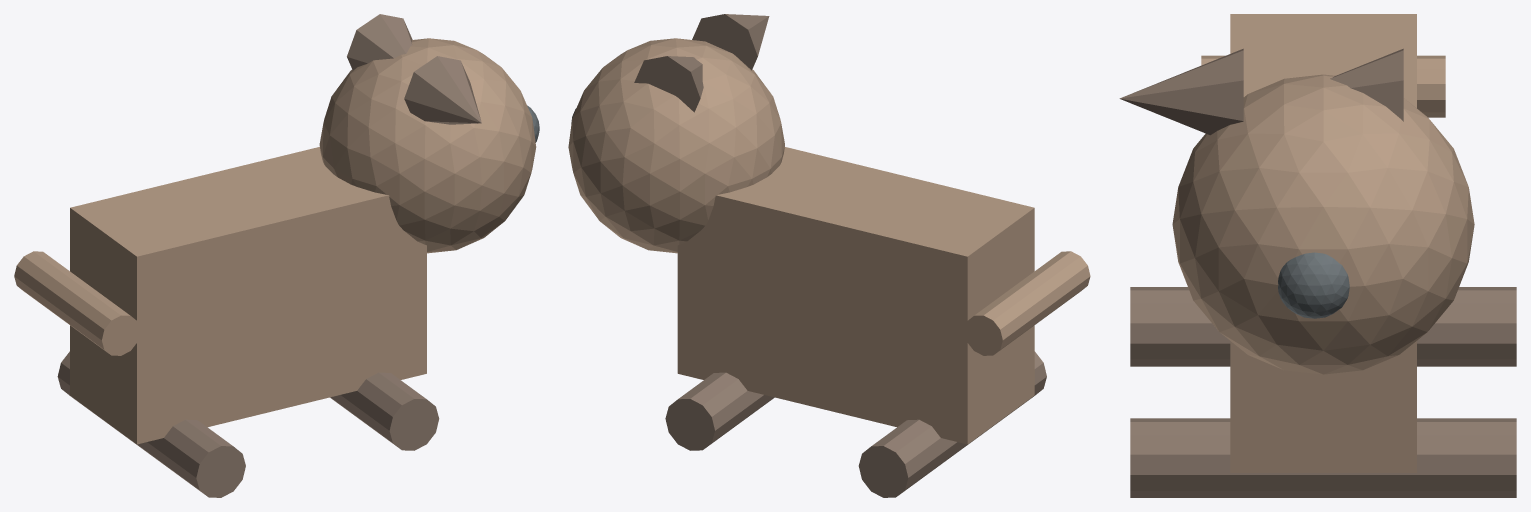
Rendered from pet_dog.glb.
3 renders of one model, left to right at view 1: azimuth 30°, elevation 25°; view 2: azimuth 150°, elevation 25°; view 3: azimuth 270°, elevation 25°, orthographic. The views are drawn at different scales.
Visible parts, largest first — view 1: part_00, part_01, part_09, part_07, part_08, part_04, part_03; view 2: part_00, part_01, part_09, part_06, part_05, part_04, part_03; view 3: part_01, part_00, part_06, part_08, part_07, part_05, part_04, part_02, part_03, part_09.
Boxes of the visible parts, x1,y1,x2,y2 form: part_00: [70, 147, 426, 444]; part_01: [319, 38, 536, 253]; part_09: [14, 251, 140, 355]; part_07: [120, 419, 245, 497]; part_08: [336, 372, 439, 450]; part_04: [404, 56, 481, 124]; part_03: [347, 14, 412, 70]; part_00: [677, 147, 1034, 444]; part_01: [568, 38, 784, 253]; part_09: [964, 251, 1090, 355]; part_06: [665, 372, 774, 450]; part_05: [858, 419, 985, 497]; part_04: [692, 14, 769, 70]; part_03: [634, 56, 703, 112]; part_01: [1172, 74, 1474, 374]; part_00: [1230, 14, 1416, 472]; part_06: [1272, 418, 1516, 497]; part_08: [1130, 418, 1374, 497]; part_07: [1130, 287, 1230, 366]; part_05: [1417, 287, 1516, 366]; part_04: [1119, 48, 1243, 135]; part_02: [1278, 252, 1349, 318]; part_03: [1330, 48, 1403, 121]; part_09: [1201, 55, 1445, 117].
Bounding box in the file's own units: 1.72 × 1.21 × 0.895.
